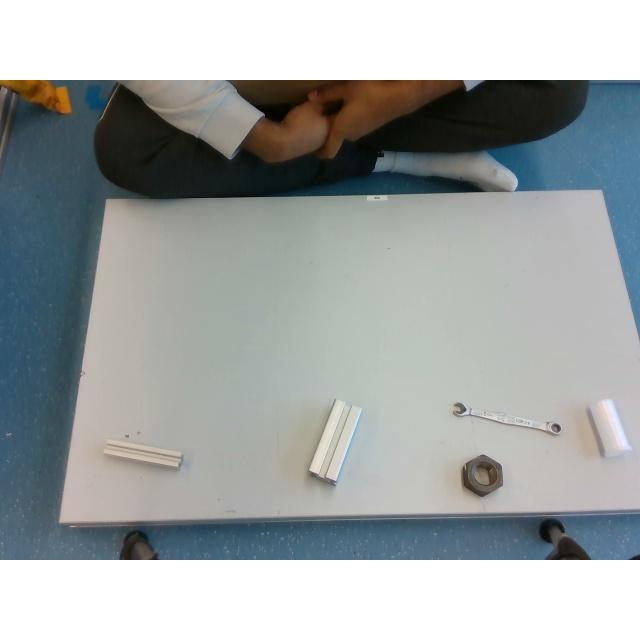F20_20_G: (102, 439, 182, 469)
M30: (462, 456, 502, 496)
S40_40_G: (310, 400, 362, 484)
Spacer: (588, 399, 632, 456)
Wrench: (450, 402, 562, 434)
